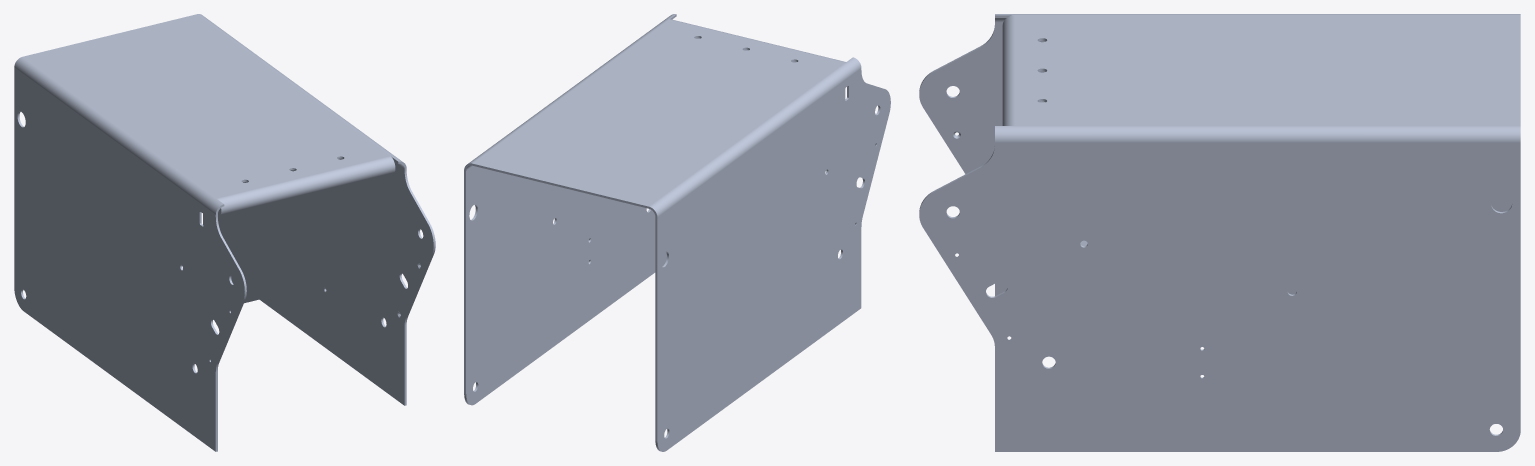
Rendered from Hopper_Bin_R1_With_Slot.obj.
3 renders of one model, left to right at view 1: azimuth 30°, elevation 25°; view 2: azimuth 150°, elevation 25°; view 3: azimuth 270°, elevation 25°, orthographic. The views are drawn at different scales.
Parts seen in each view (by area): view 1: mesh1430, mesh1366, mesh1427, mesh1393, mesh1373, mesh1395, mesh1398; view 2: mesh1430, mesh1366, mesh1427, mesh1373, mesh1398, mesh1377, mesh1369, mesh1400; view 3: mesh1410, mesh1366, mesh1398, mesh1450, mesh1395, mesh1373.
Part boxes in pixels (x1,y1,x2,y2): mesh1430: (14,68,244,451); mesh1366: (23,14,389,198); mesh1427: (203,158,433,405); mesh1393: (218,172,394,303); mesh1373: (14,56,223,214); mesh1395: (217,156,395,214); mesh1398: (197,14,402,161); mesh1430: (657,68,890,451); mesh1366: (473,20,844,206); mesh1427: (466,166,666,405); mesh1373: (649,57,861,217); mesh1398: (468,14,676,163); mesh1377: (655,217,657,440); mesh1369: (472,164,648,208); mesh1400: (464,170,465,393); mesh1410: (919,142,1520,451); mesh1366: (1015,15,1520,125); mesh1398: (995,126,1520,142); mesh1450: (919,22,1512,295); mesh1395: (1002,15,1014,125); mesh1373: (995,14,1520,15).
Size of the model in its own units: 0.3 by 0.3691 by 0.6276.
